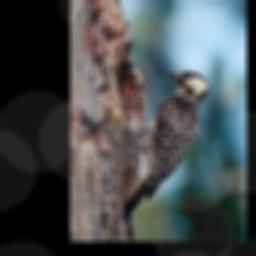Woodpecker: (117, 65, 219, 223)
